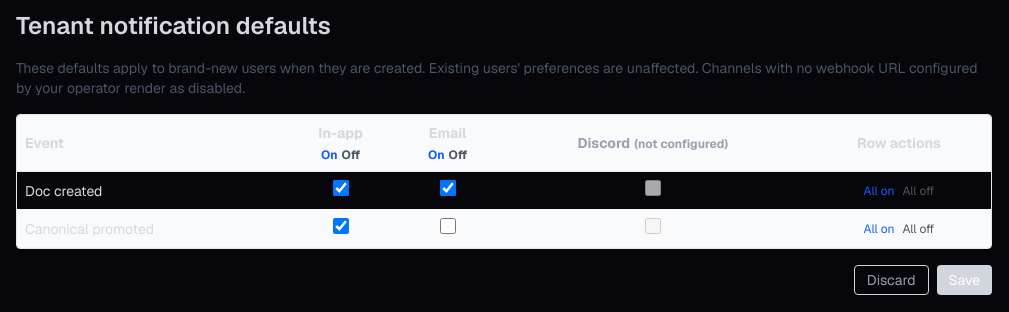
Test: AdminNotificationDefaultsGrid › column bulk-off disables every row for the channel
Click the button with test id "notif-defaults-column-in_app-disable-all": (351, 155) [342, 147, 360, 163]
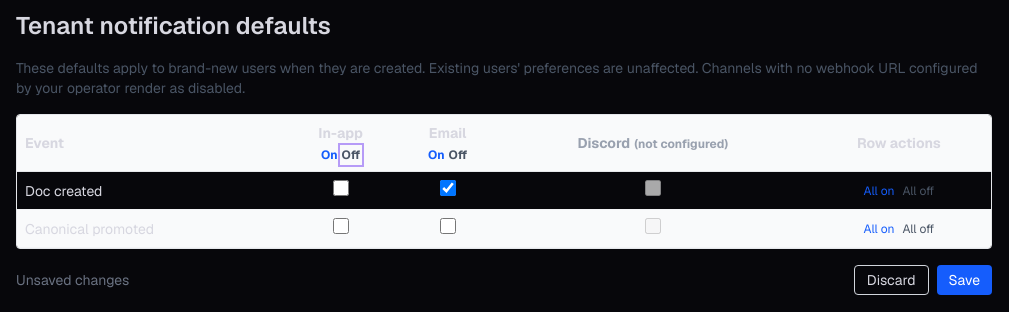
Expected: the checkbox with test id "notif-defaults-cell-kb_doc_created-in_app-toggle" is not checked, [333, 180, 349, 196]
Expected: the checkbox with test id "notif-defaults-cell-kb_canonical_promoted-in_app-toggle" is not checked, [333, 218, 349, 234]
